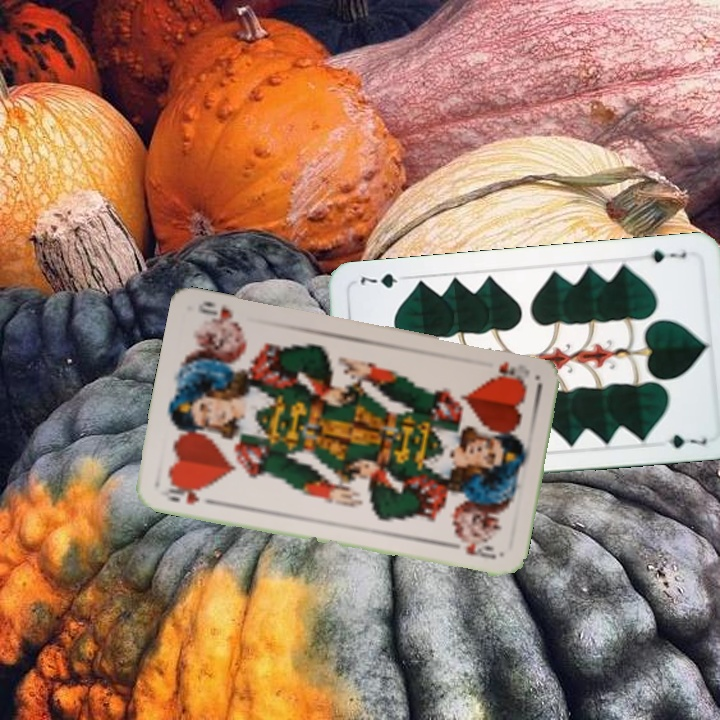G7: (646, 245, 689, 266)
HO: (161, 479, 216, 507), (486, 357, 530, 388)
